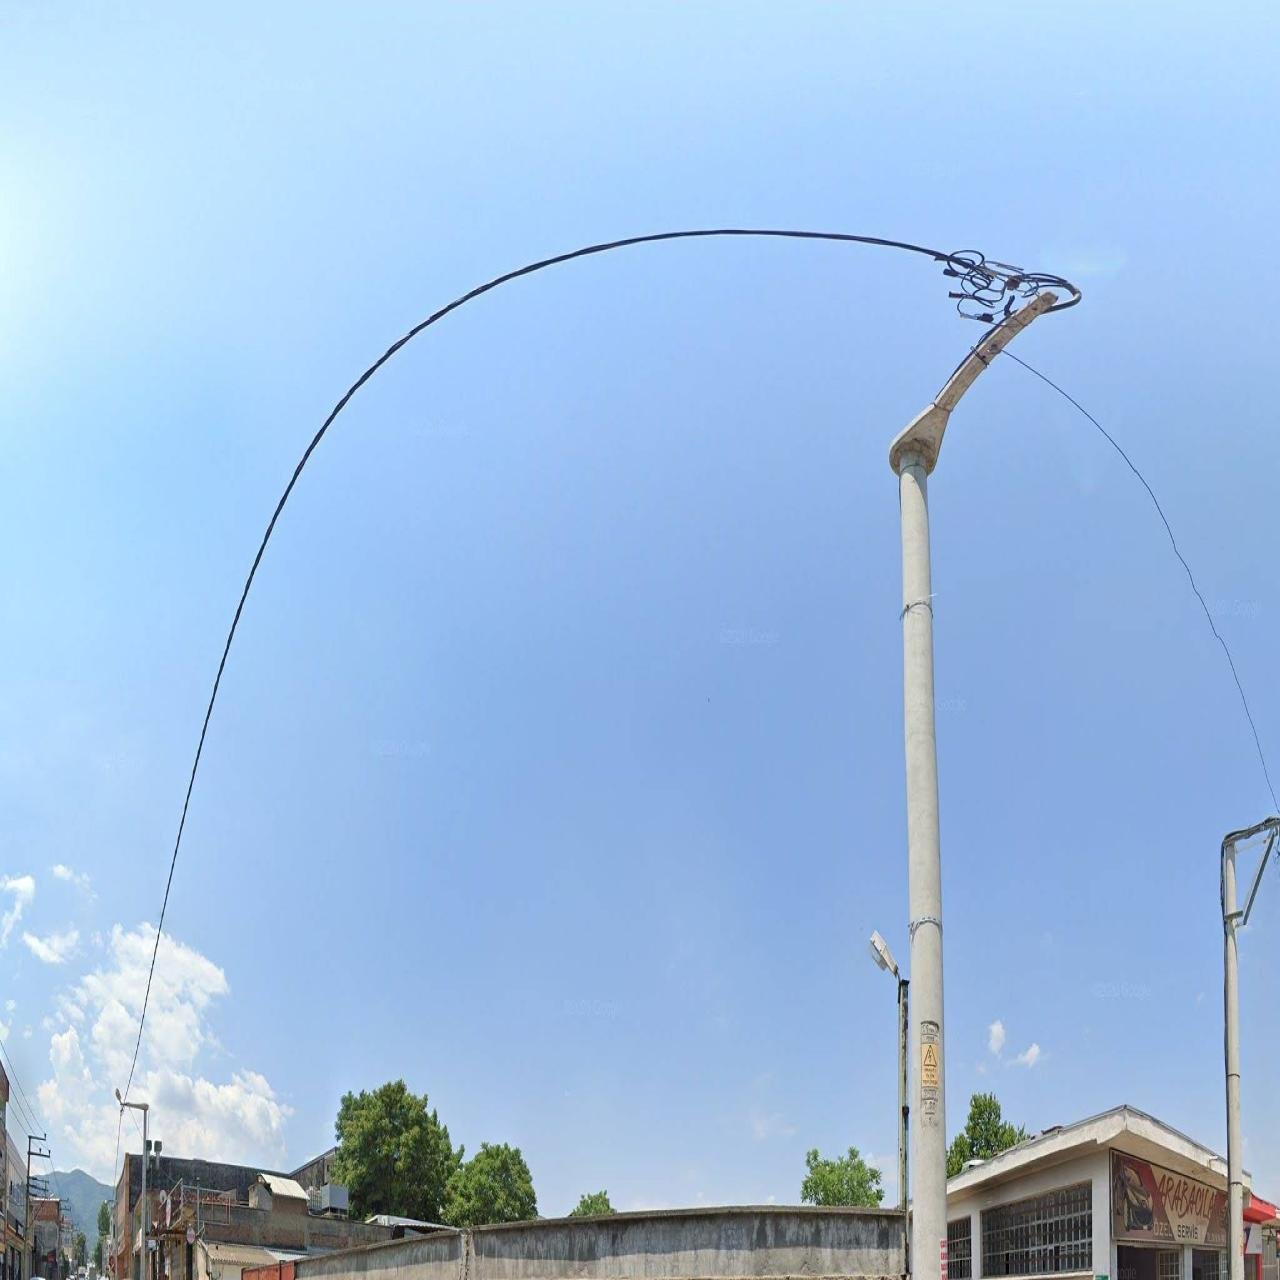Utility Pole Information Plate: (920, 1039, 939, 1092)
